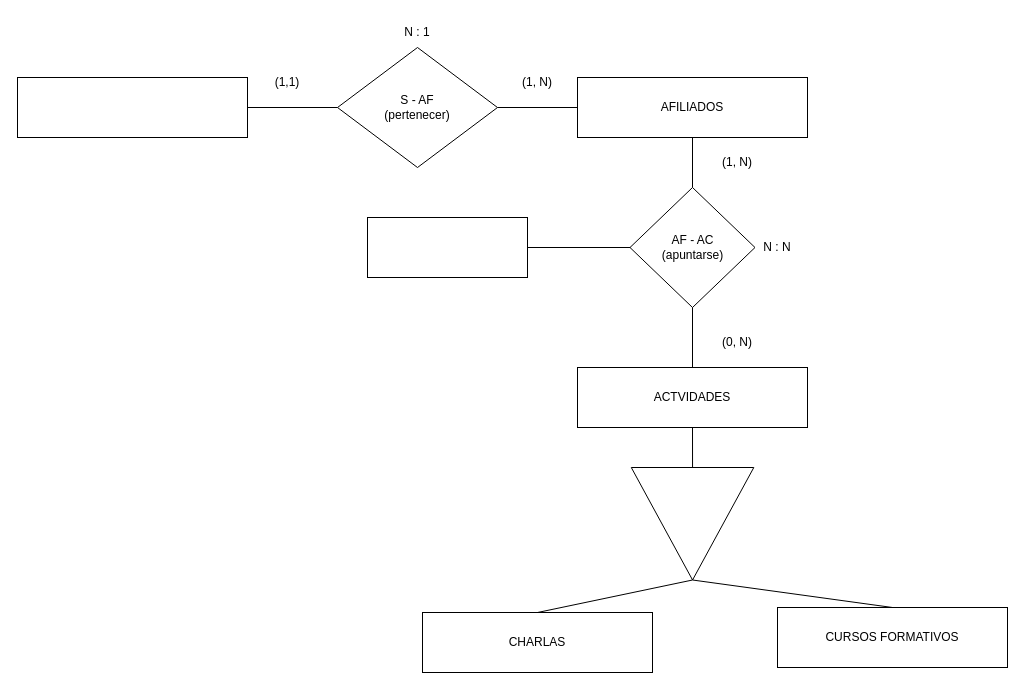
Some shapes in this 1025 by 690 pixel diagram are drawn without their labels. Here are the shapes that lost their labels. From the top down, the centre of each, then its label:
the point at 132,107: SINDICATOS
the point at 447,247: REGISTRO ACTIVIDADES
the point at 692,523: ES
